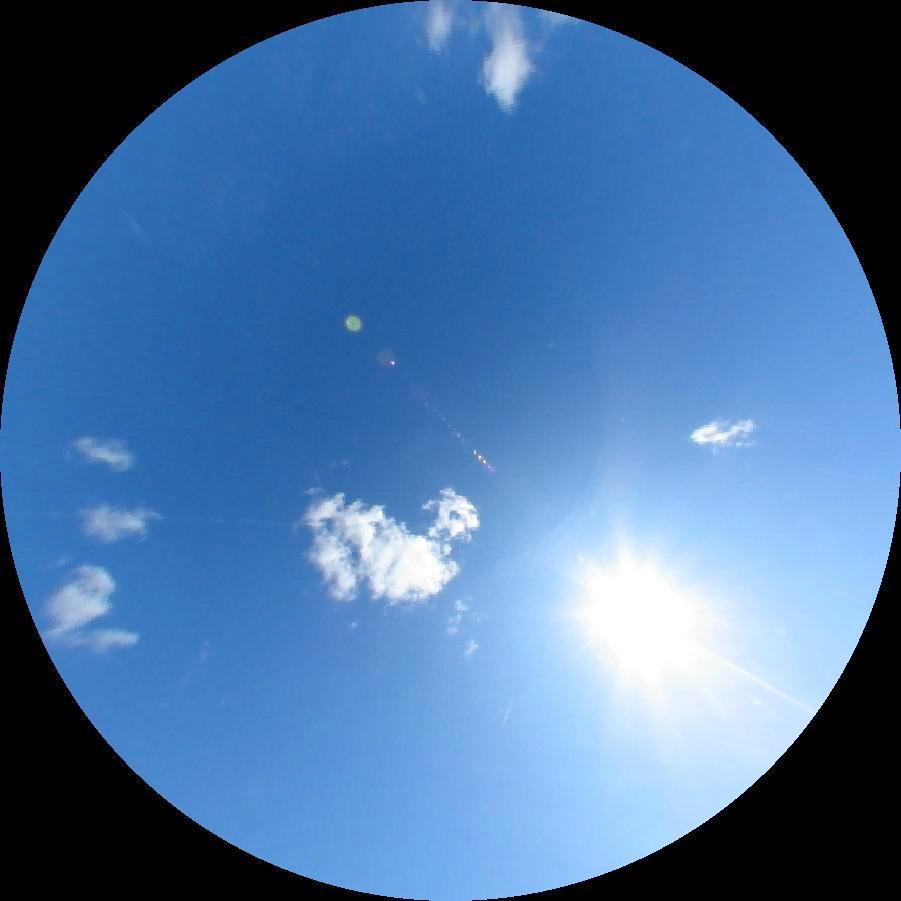contrail young: (501, 703, 512, 727)
parasite: (690, 642, 817, 716)
sun: (551, 527, 719, 700)
